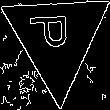P_E: (33, 19, 80, 58)
